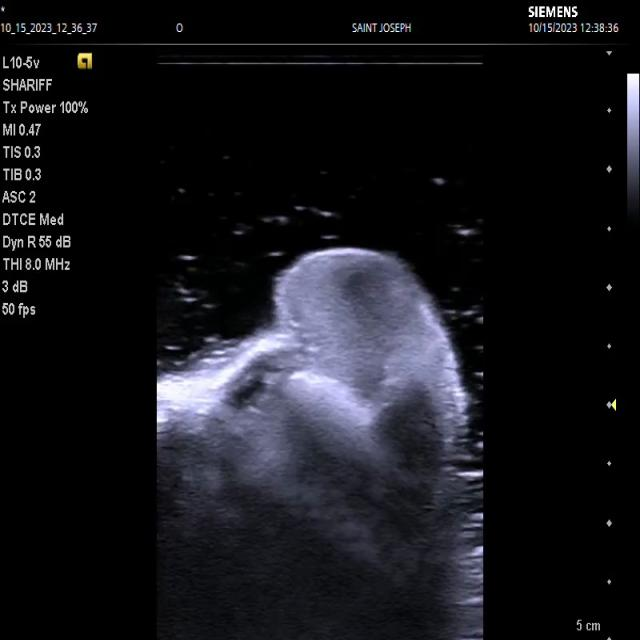tissue: (157, 247, 466, 640)
